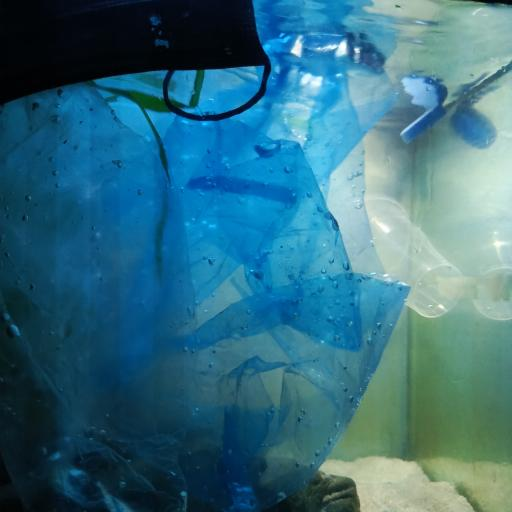bottle_cap: (398, 104, 446, 142)
mask: (2, 0, 271, 124)
plastic_bag: (0, 30, 409, 512)
plastic_cup: (334, 195, 461, 319)
